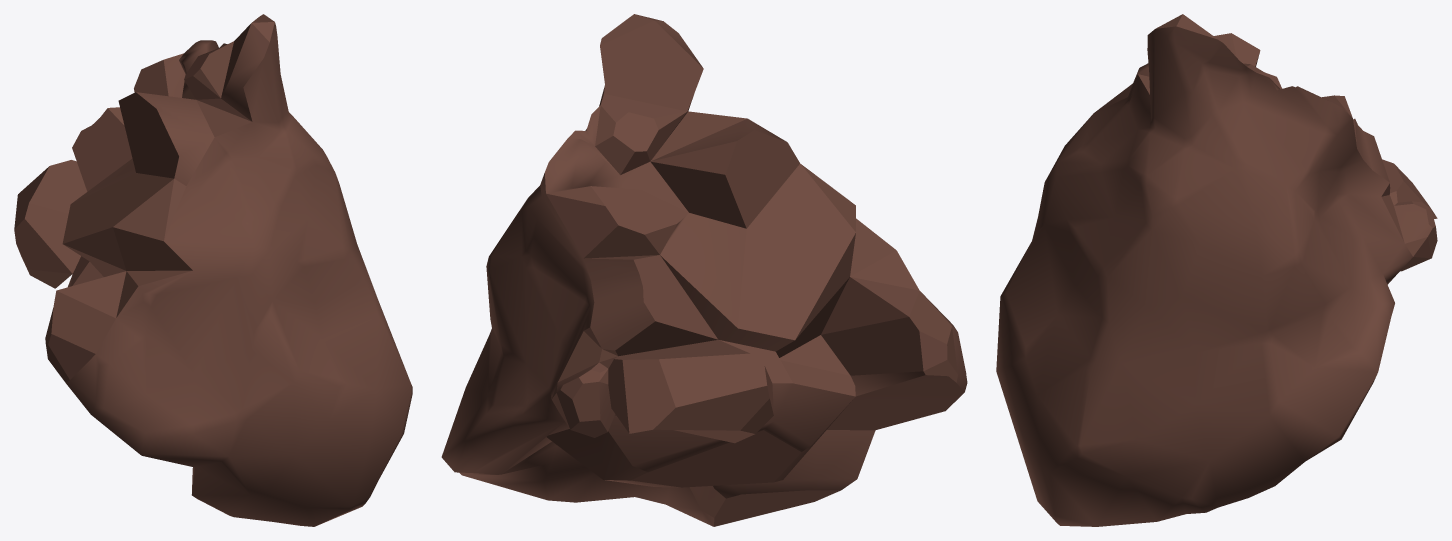
The model's file is p_mesh_hvs_stalagmite_medium_destruction_part02.fbx.
The picture shows the model from 3 angles, left to right: view 1: azimuth 30°, elevation 25°; view 2: azimuth 150°, elevation 25°; view 3: azimuth 270°, elevation 25°; orthographic projection. The views are drawn at different scales.
Visible parts, largest first — view 1: p_medium_part2; view 2: p_medium_part2; view 3: p_medium_part2.
Boxes of the visible parts, x1,y1,x2,y2 form: p_medium_part2: (14,14,412,526); p_medium_part2: (441,14,967,526); p_medium_part2: (996,14,1437,526).
Size of the model in its own units: 6.15 by 7.86 by 6.31.
